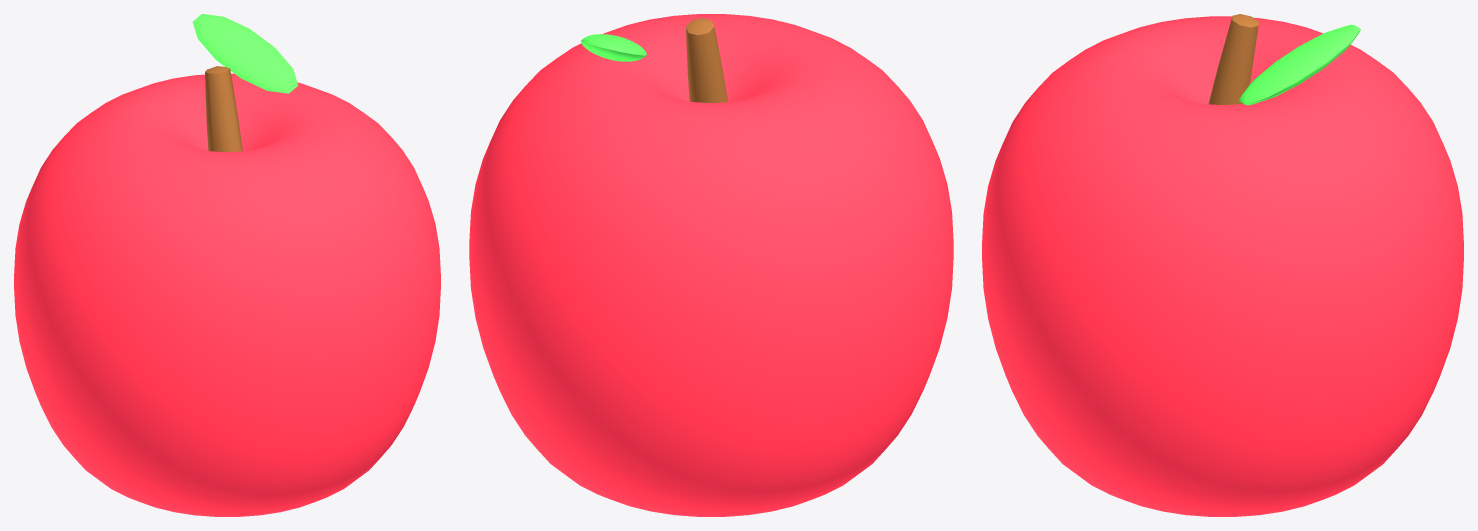
3 renders of one model, left to right at view 1: azimuth 30°, elevation 25°; view 2: azimuth 150°, elevation 25°; view 3: azimuth 270°, elevation 25°, orthographic. The views are drawn at different scales.
Visible parts, largest first — view 1: Apple-whole; view 2: Apple-whole; view 3: Apple-whole.
Part boxes in pixels (x1,y1,x2,y2): Apple-whole: (14,14,440,516); Apple-whole: (469,14,953,516); Apple-whole: (982,14,1463,516).
Bounding box in the file's own units: 0.0397 × 0.0417 × 0.0397.
